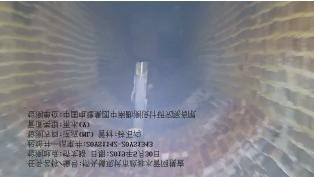ZGAJ: (129, 62, 148, 135)
